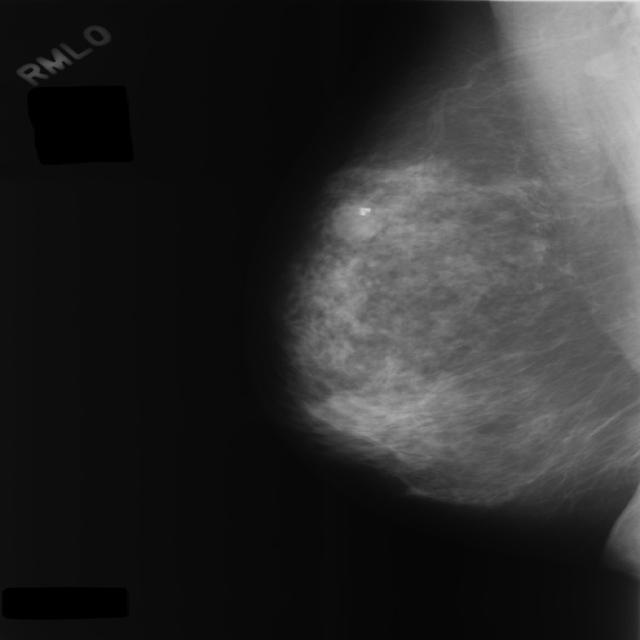tumour: (328, 196, 383, 244)
